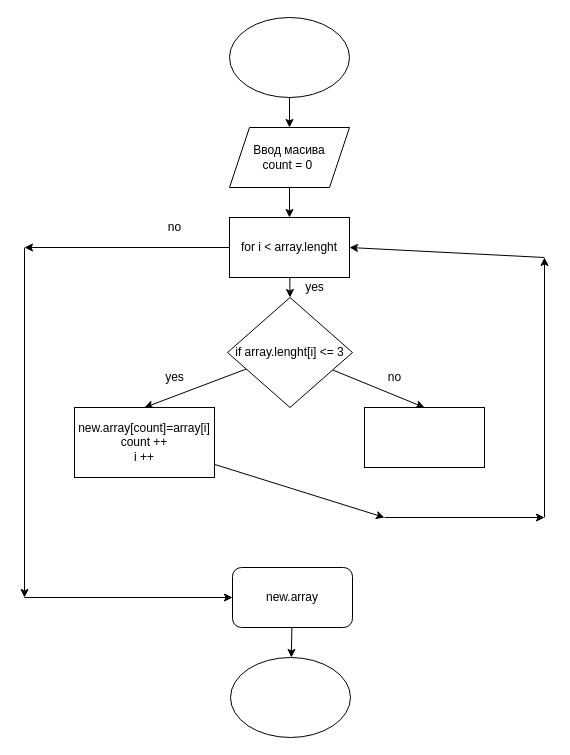
The diagram is 570 pixels wide and 755 high, and some of its shapes have lost their labels. Here are the shapes that lost their labels. From the top down, the centre of each, then its label:
pixel 289 57: Start
pixel 424 437: i++
pixel 290 697: end
